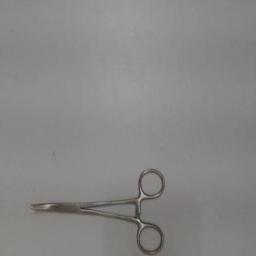Crile Artery Forceps: (28, 164, 166, 256)
